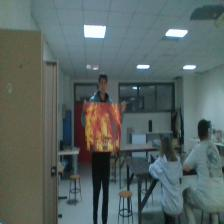fire-poster: (85, 102, 121, 151)
